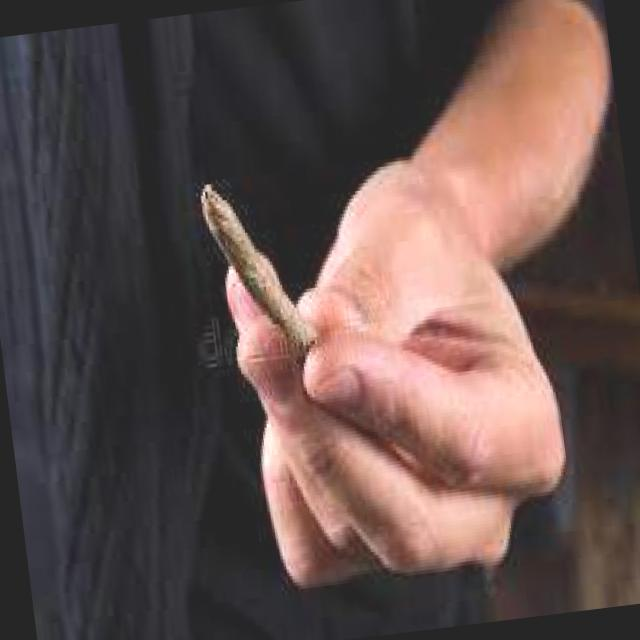cigarette: (196, 166, 319, 374)
